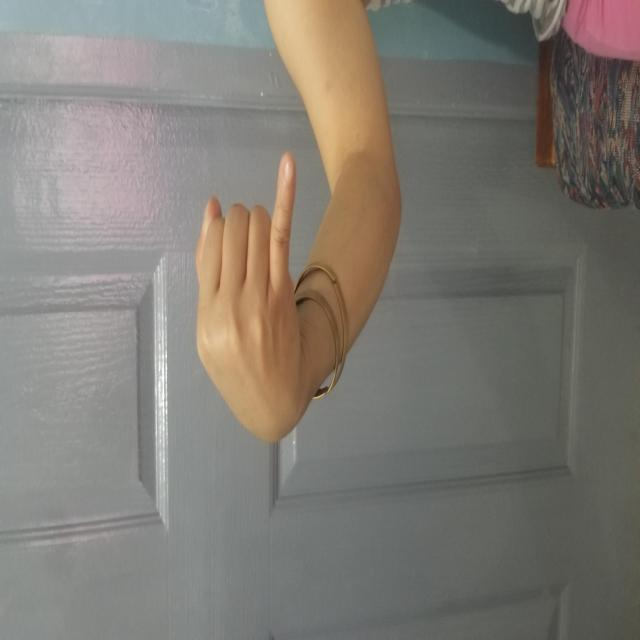J: (167, 132, 384, 468)
